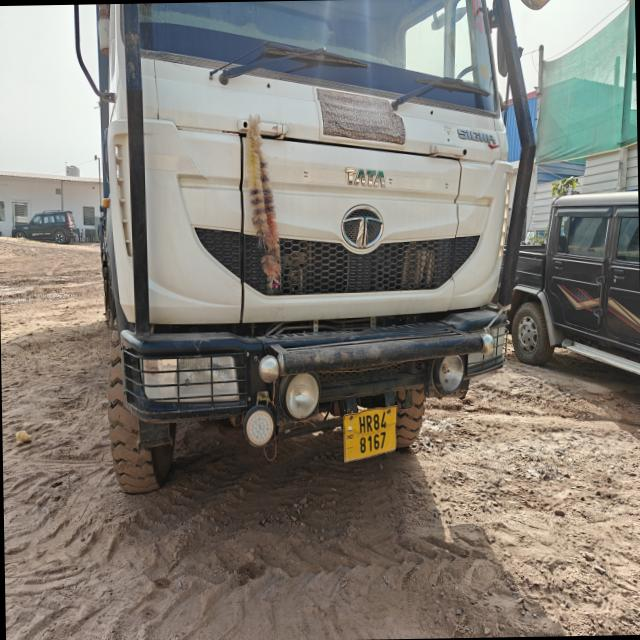license_plate: (344, 407, 396, 462)
